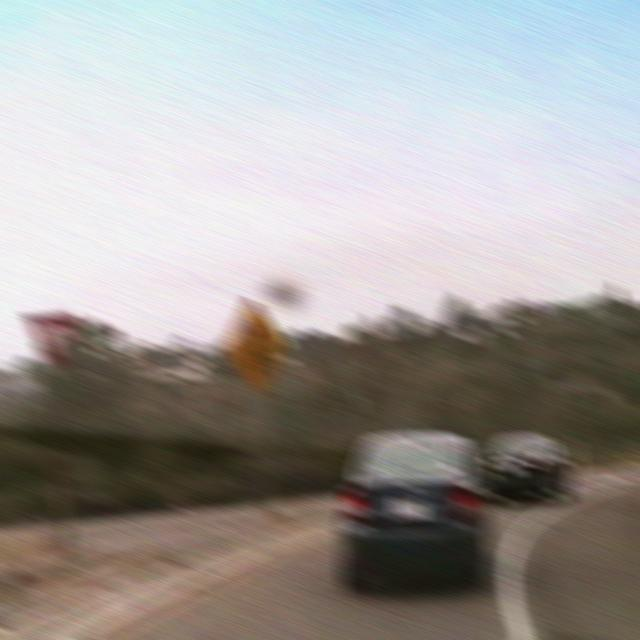yield: (22, 310, 81, 377)
